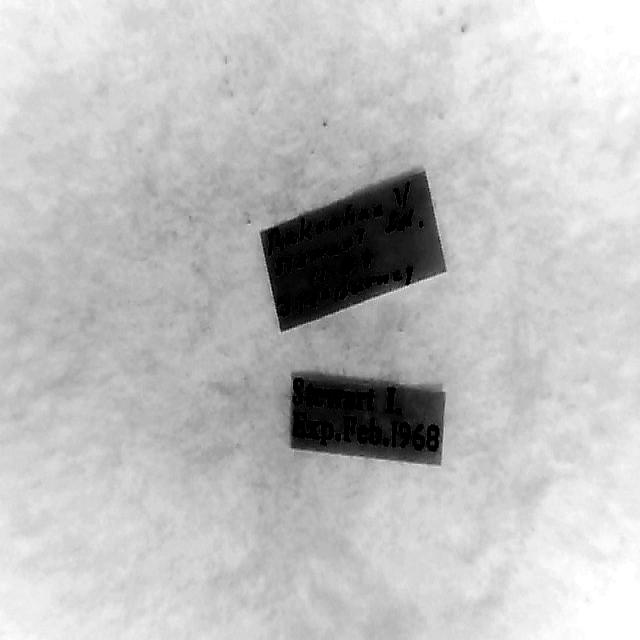hand_label: (260, 174, 446, 331)
typed_label: (292, 377, 445, 464)
